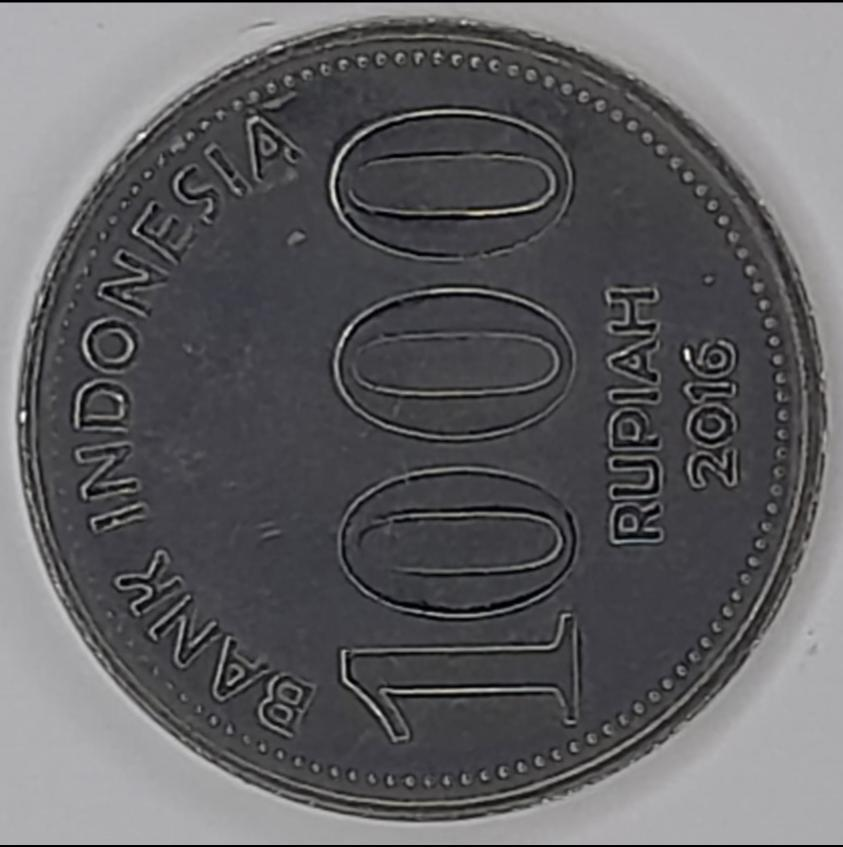coin_1000_e2016: (14, 17, 832, 847)
